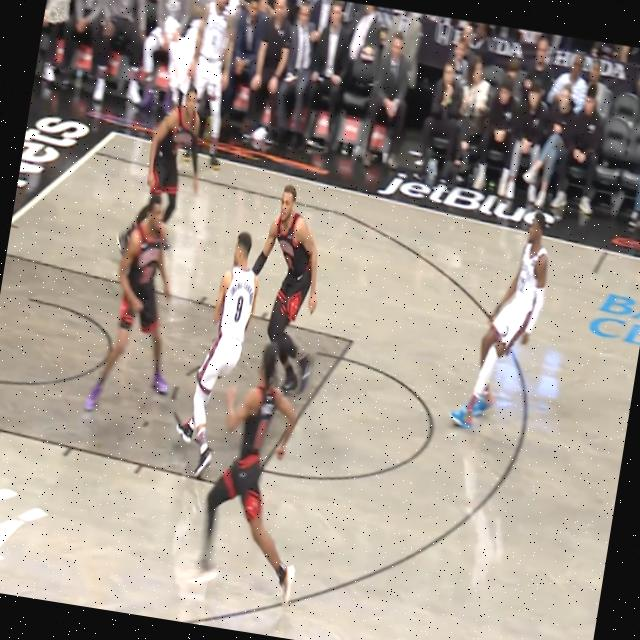no foul: (138, 158, 365, 592), (359, 162, 614, 480)
